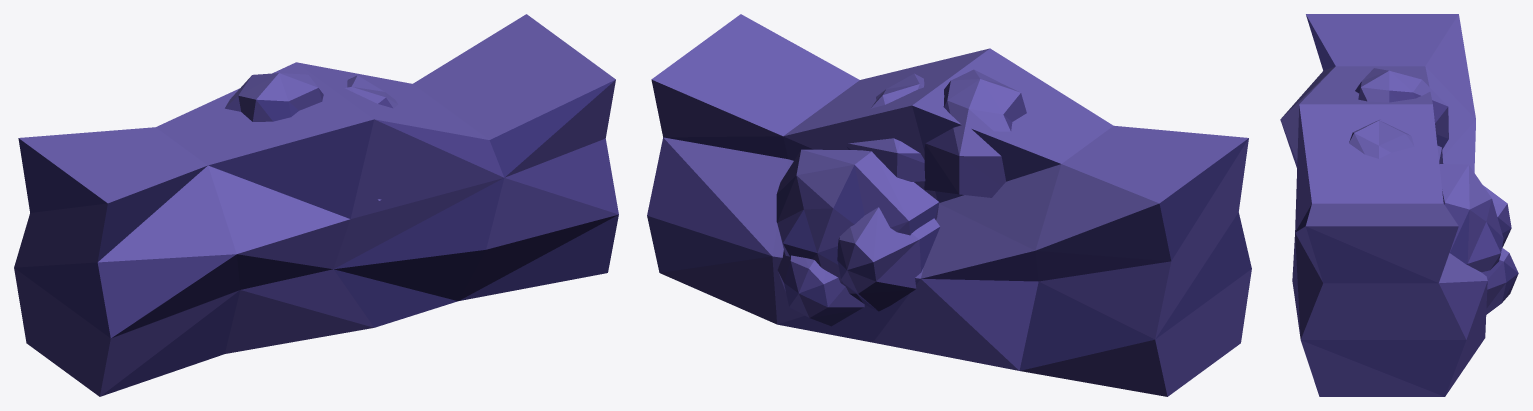
The model's file is Mine_FrontWall_C.obj.
The picture shows the model from 3 angles, left to right: view 1: azimuth 30°, elevation 25°; view 2: azimuth 150°, elevation 25°; view 3: azimuth 270°, elevation 25°; orthographic projection. The views are drawn at different scales.
Visible parts, largest first — view 1: Mine_FrontWall_C; view 2: Mine_FrontWall_C; view 3: Mine_FrontWall_C.
Part boxes in pixels (bbox=[...]): Mine_FrontWall_C: bbox=[14, 14, 618, 396]; Mine_FrontWall_C: bbox=[647, 14, 1251, 396]; Mine_FrontWall_C: bbox=[1280, 14, 1518, 396].
Bounding box in the file's own units: 4 × 1.82 × 1.9.
